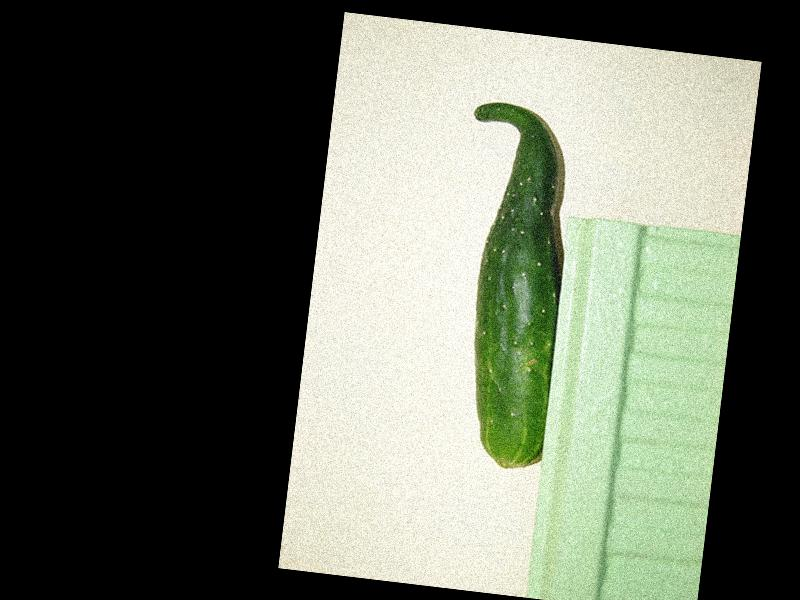Cucumber: (433, 98, 583, 471)
